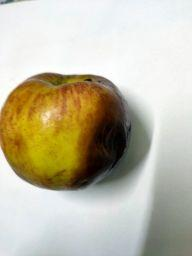Apple Rotten: (0, 71, 134, 191)
